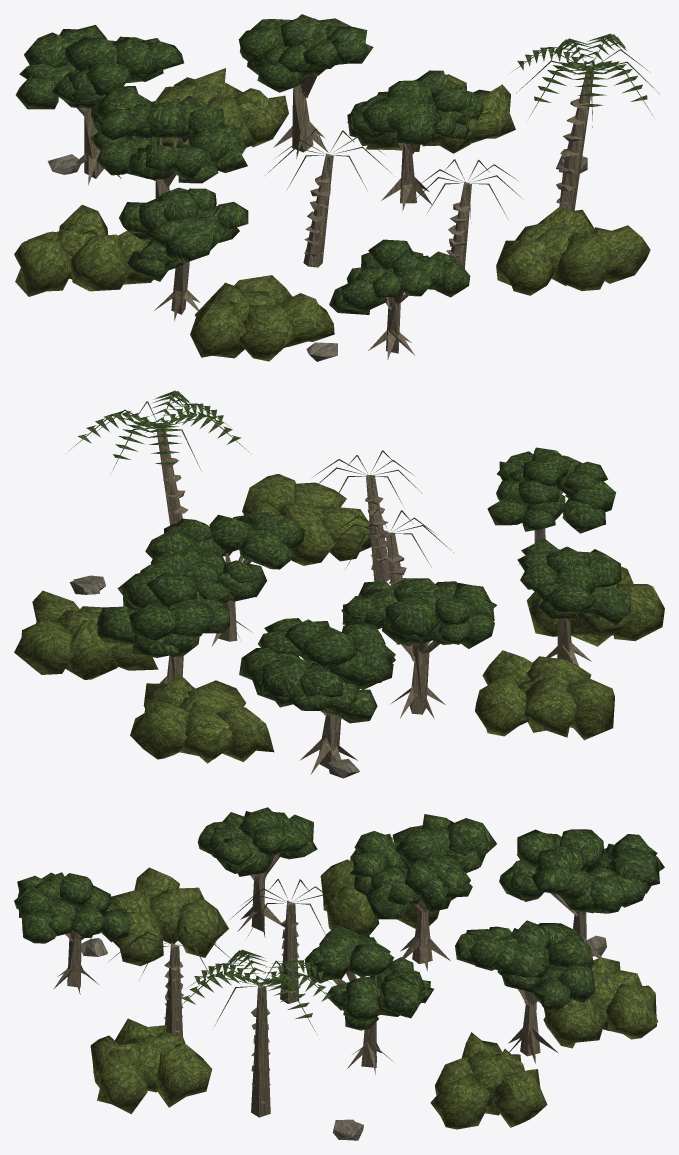
The model's file is jungle_tile_b.gltf.
3 renders of one model, top to bottom at view 1: azimuth 30°, elevation 25°; view 2: azimuth 150°, elevation 25°; view 3: azimuth 270°, elevation 25°, orthographic.
Visible parts, largest first — view 1: jungle_tile_b_game; view 2: jungle_tile_b_game; view 3: jungle_tile_b_game.
Boxes of the visible parts, x1=… form: jungle_tile_b_game: x1=14, y1=14, x2=659, y2=361; jungle_tile_b_game: x1=14, y1=390, x2=664, y2=778; jungle_tile_b_game: x1=14, y1=807, x2=664, y2=1140.
Bounding box in the file's own units: 1.59 × 0.4453 × 1.58.
Materials: 4 (4 with a texture image).
